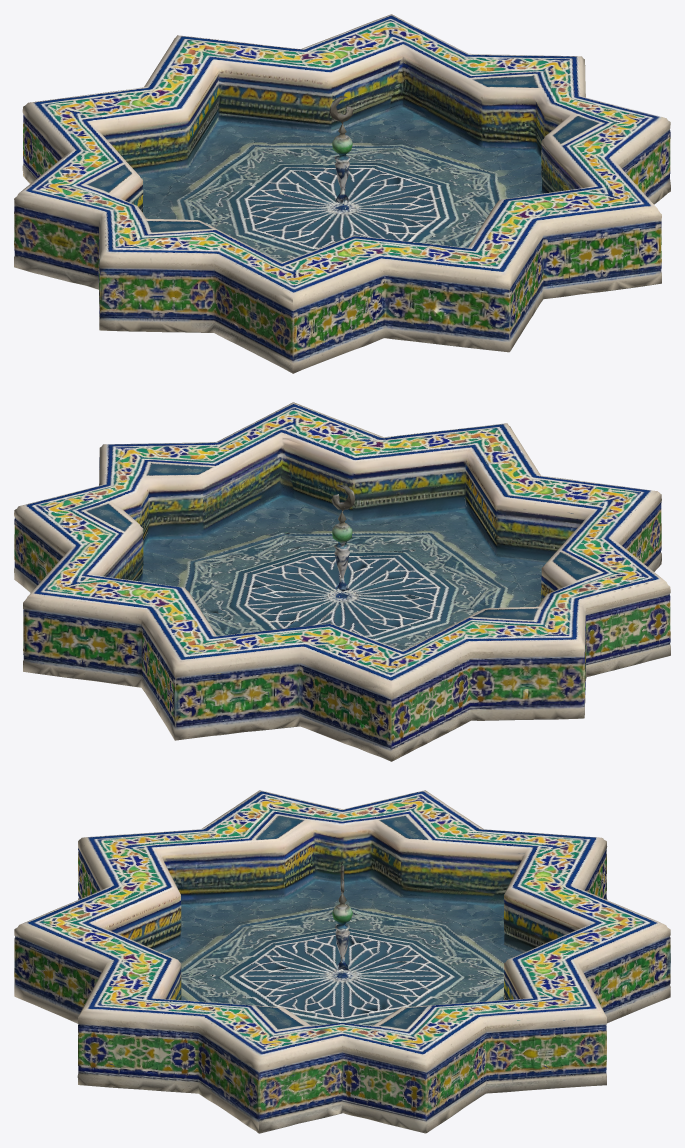
File: Eight_Point_Star_Mosa.fbx
The picture shows the model from 3 angles, top to bottom: view 1: azimuth 30°, elevation 25°; view 2: azimuth 150°, elevation 25°; view 3: azimuth 270°, elevation 25°; orthographic projection. The views are drawn at different scales.
Visible parts, largest first — view 1: Eight_Point_Star_Mosa_LOD0; view 2: Eight_Point_Star_Mosa_LOD0; view 3: Eight_Point_Star_Mosa_LOD0.
Part boxes in pixels (<box>): Eight_Point_Star_Mosa_LOD0: <box>14,14,670,373</box>; Eight_Point_Star_Mosa_LOD0: <box>14,402,670,761</box>; Eight_Point_Star_Mosa_LOD0: <box>14,790,670,1133</box>.
Size of what is drawn, in the model's own units: 1.87 by 0.4179 by 1.9.
Materials: 1 (1 with a texture image).
